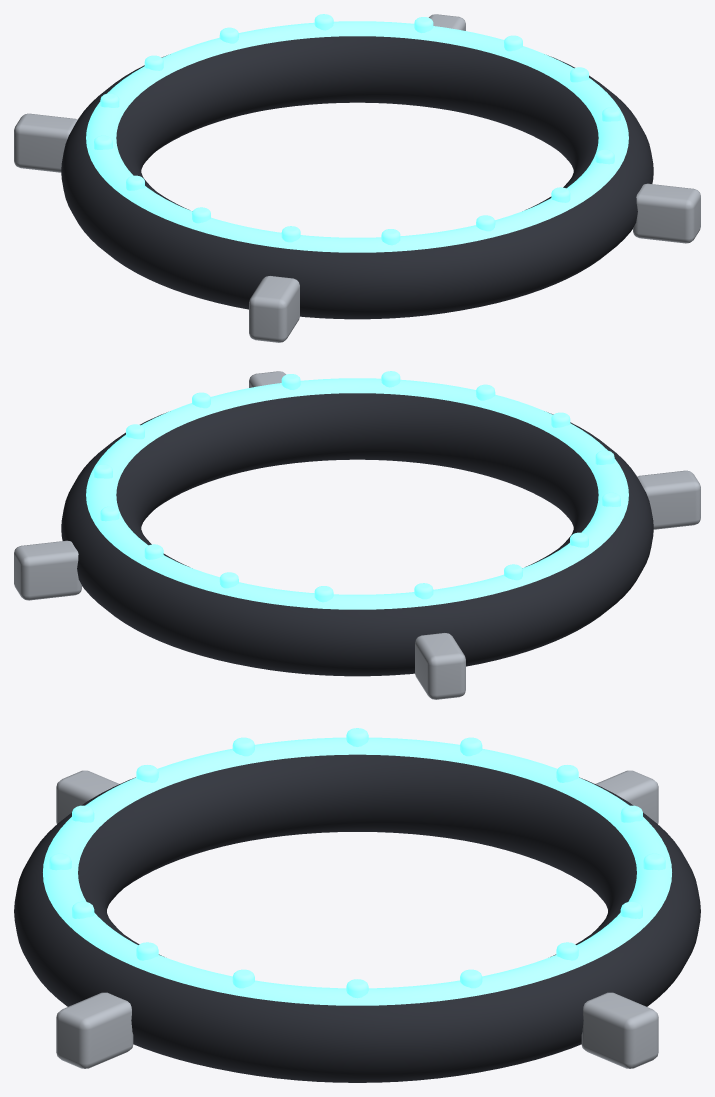
The model's file is portal.glb.
3 renders of one model, top to bottom at view 1: azimuth 30°, elevation 25°; view 2: azimuth 150°, elevation 25°; view 3: azimuth 270°, elevation 25°, orthographic. The views are drawn at different scales.
Visible parts, largest first — view 1: portal; view 2: portal; view 3: portal.
Boxes of the visible parts, x1,y1,x2,y2 form: portal: [14, 14, 700, 342]; portal: [14, 371, 700, 699]; portal: [14, 728, 700, 1082].
Size of the model in its own units: 0.74 by 0.115 by 0.74.
